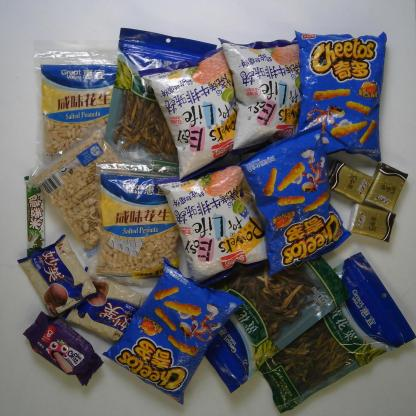Chocolate: (25, 174, 47, 259)
Dessert: (61, 264, 157, 346), (16, 235, 98, 319), (22, 310, 104, 386)
Dried Food: (164, 212, 351, 395), (231, 251, 416, 412), (97, 28, 217, 189)
Dried Fruit: (29, 120, 156, 263), (34, 47, 158, 175), (89, 154, 187, 286)
Puffed Food: (102, 257, 244, 405), (154, 155, 290, 286), (238, 122, 352, 278), (137, 44, 259, 181), (292, 29, 386, 165), (218, 34, 314, 156)
Tissue: (362, 163, 409, 212), (321, 160, 373, 202), (347, 204, 396, 243)
